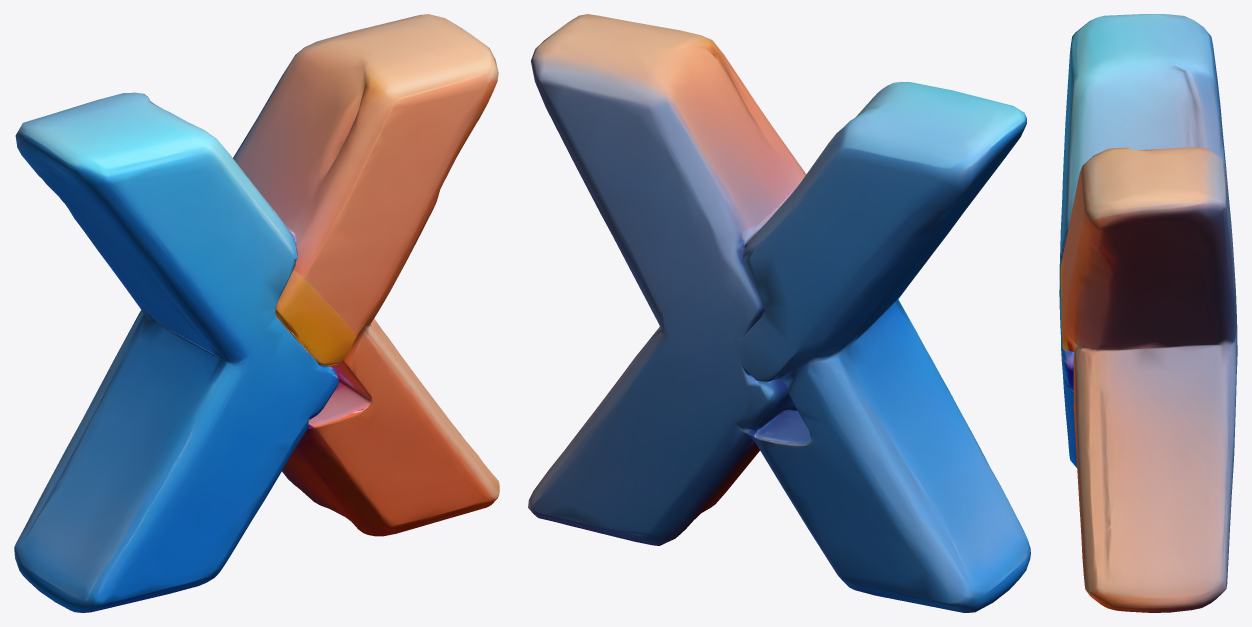
The model's file is brand-x.glb.
3 renders of one model, left to right at view 1: azimuth 30°, elevation 25°; view 2: azimuth 150°, elevation 25°; view 3: azimuth 270°, elevation 25°, orthographic. The views are drawn at different scales.
Visible parts, largest first — view 1: tripo_node_b63ceb4a-e81b-45bd-816a-7fbebcfb7058; view 2: tripo_node_b63ceb4a-e81b-45bd-816a-7fbebcfb7058; view 3: tripo_node_b63ceb4a-e81b-45bd-816a-7fbebcfb7058.
Part boxes in pixels (bbox=[...]): tripo_node_b63ceb4a-e81b-45bd-816a-7fbebcfb7058: bbox=[14, 14, 499, 612]; tripo_node_b63ceb4a-e81b-45bd-816a-7fbebcfb7058: bbox=[528, 14, 1030, 612]; tripo_node_b63ceb4a-e81b-45bd-816a-7fbebcfb7058: bbox=[1059, 14, 1237, 612].
Bounding box in the file's own units: 0.9664 × 0.9818 × 0.3761.
1 material, 1 textured.
